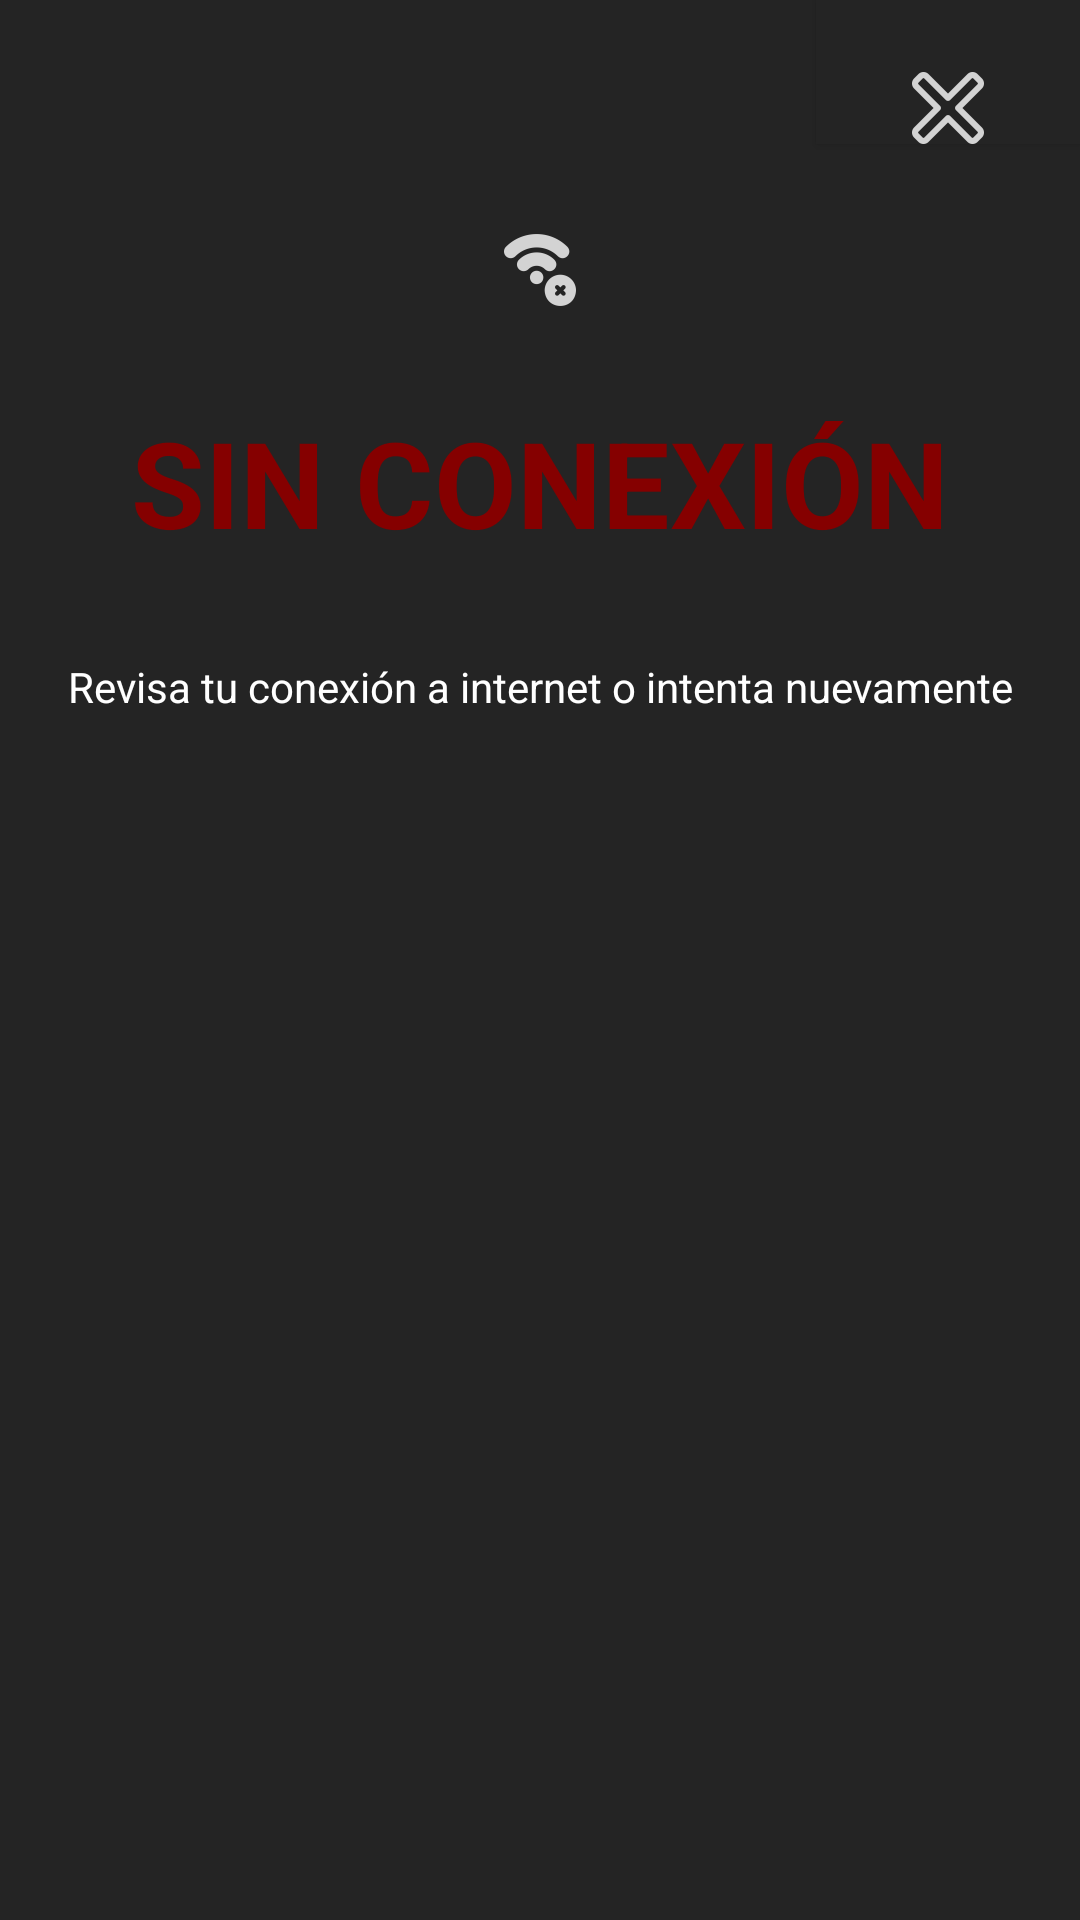

Where to tap for icons on this 1080w x 1920h app screen, as [x,y]:
sininternet: [540,270]
